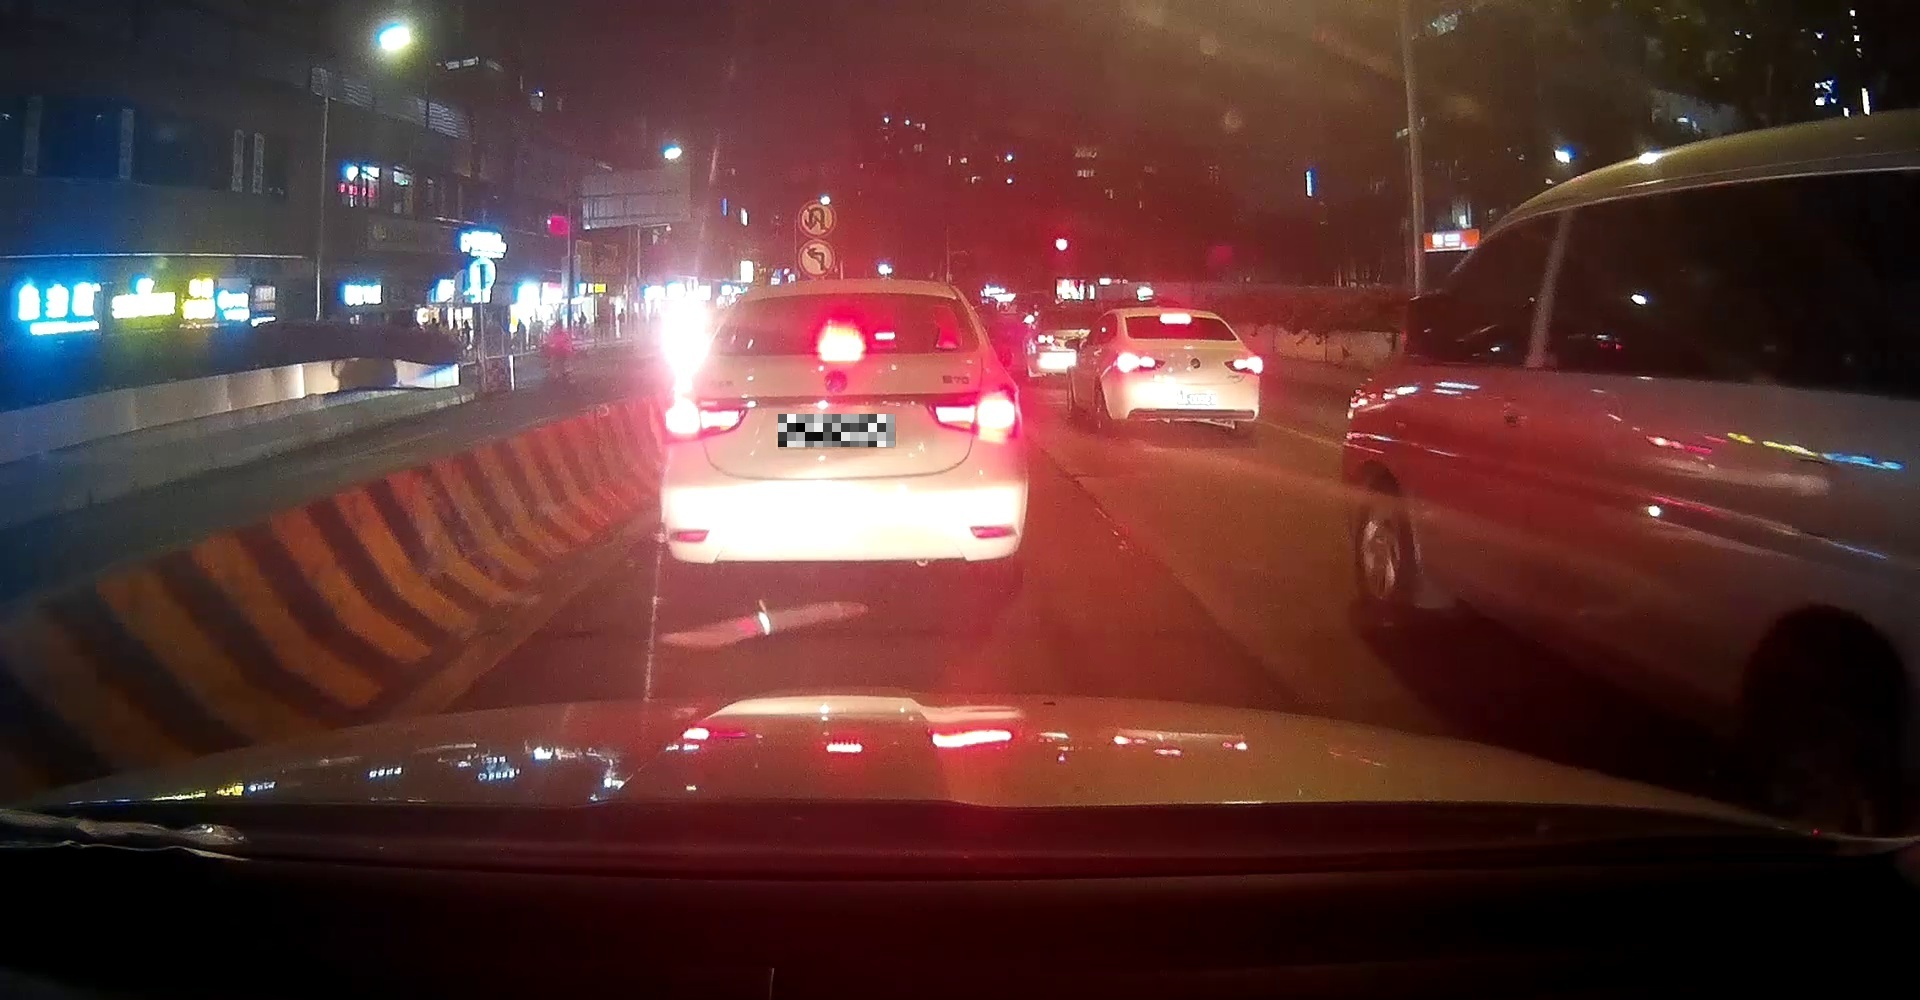L_light: (665, 405, 749, 443), (1119, 357, 1164, 371)
R_light: (930, 396, 1017, 437), (1224, 358, 1260, 376)
T_light: (813, 344, 869, 357), (1161, 313, 1191, 320)
night-brake: (662, 282, 1026, 605), (1112, 308, 1263, 437)
plate_1: (778, 414, 895, 447)
